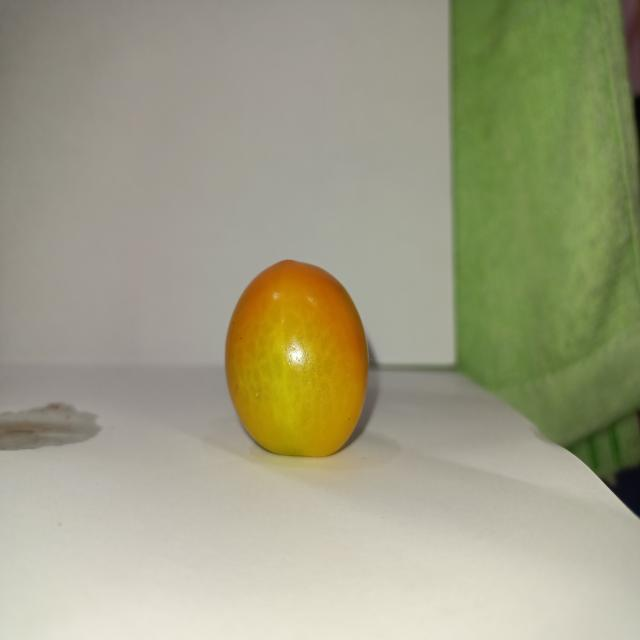Red: (223, 257, 370, 458)
